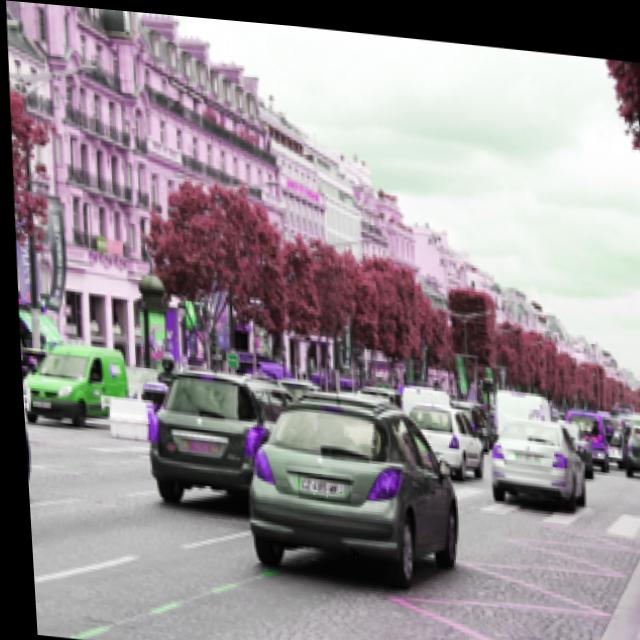license_plate: (291, 466, 345, 498)
